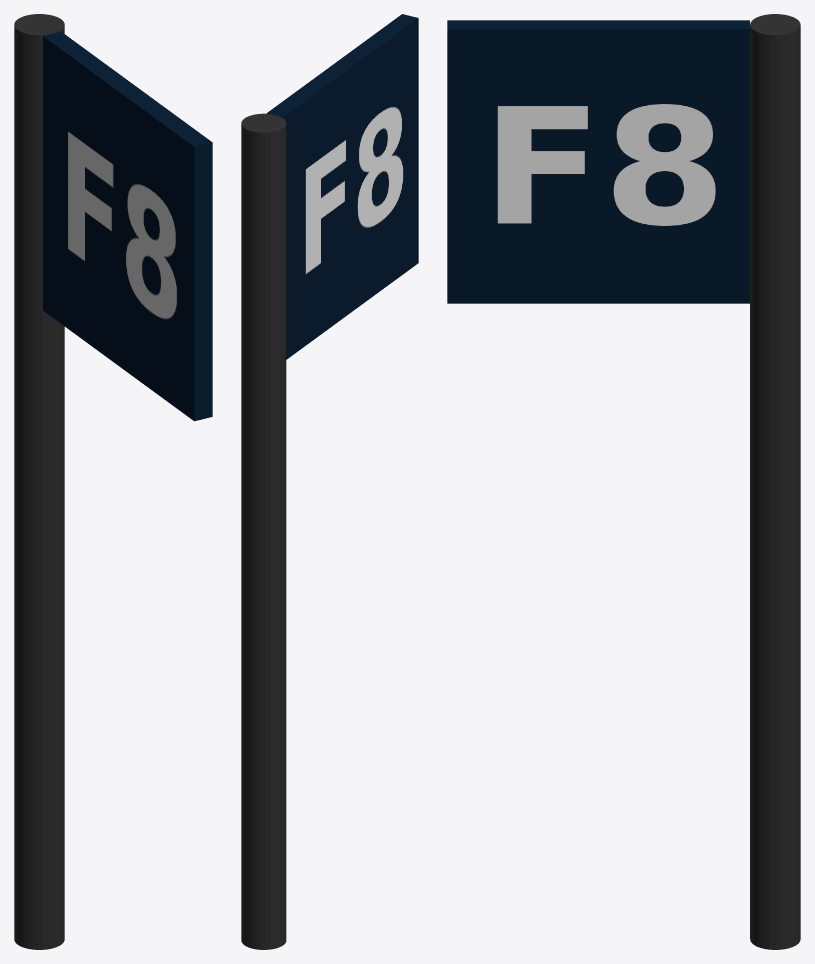
File: start_flag.dae
3 renders of one model, left to right at view 1: azimuth 30°, elevation 25°; view 2: azimuth 150°, elevation 25°; view 3: azimuth 270°, elevation 25°, orthographic. The views are drawn at different scales.
Parts seen in each view (by area): view 1: flag; view 2: flag; view 3: flag.
Boxes of the visible parts, box(x1,y1,x2,y2) form: flag: box(14, 14, 212, 949); flag: box(241, 14, 418, 949); flag: box(447, 14, 800, 949).
Size of the model in its own units: 0.1 by 0.7 by 2.
Materials: 2 (1 with a texture image).
